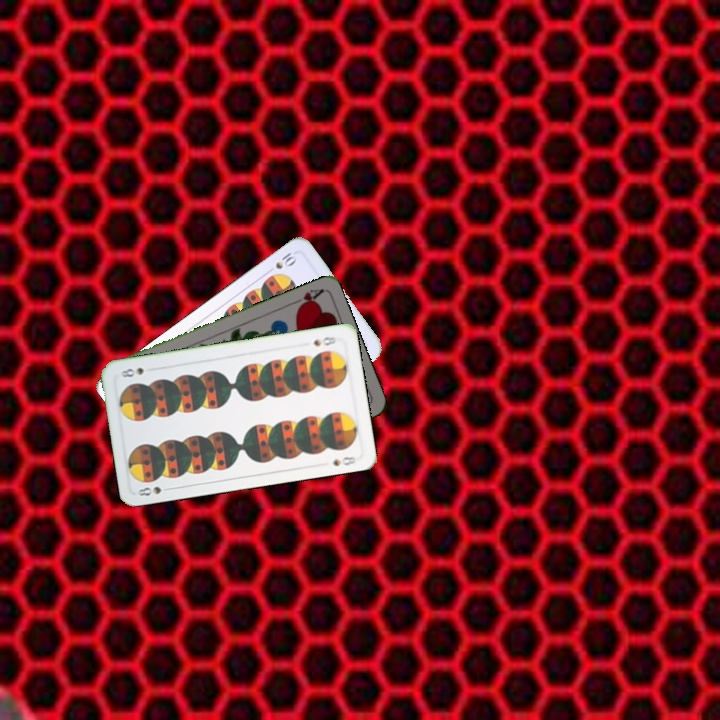HA: (286, 285, 325, 312)
S10: (262, 248, 299, 276)
S8: (134, 482, 174, 499), (309, 332, 339, 349)
